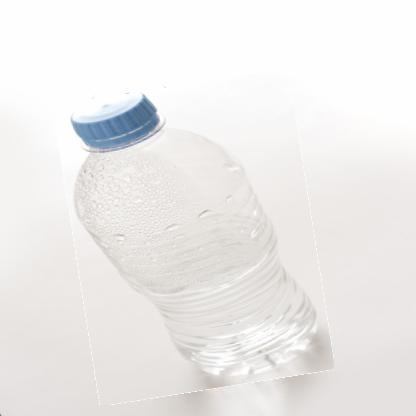plastic-bottles: (65, 79, 325, 399)
